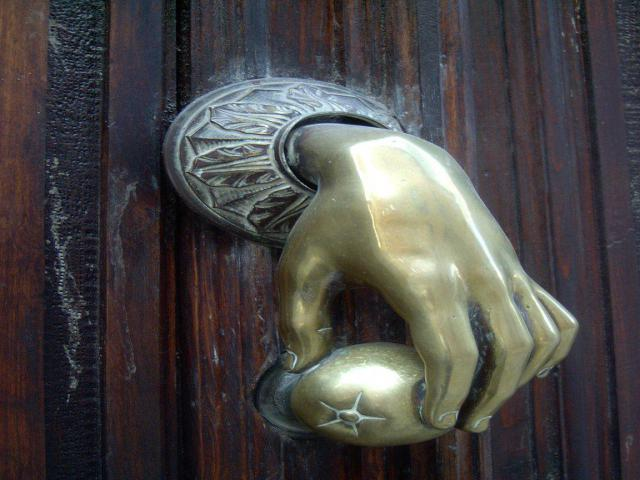Door-handle: (160, 77, 579, 448)
